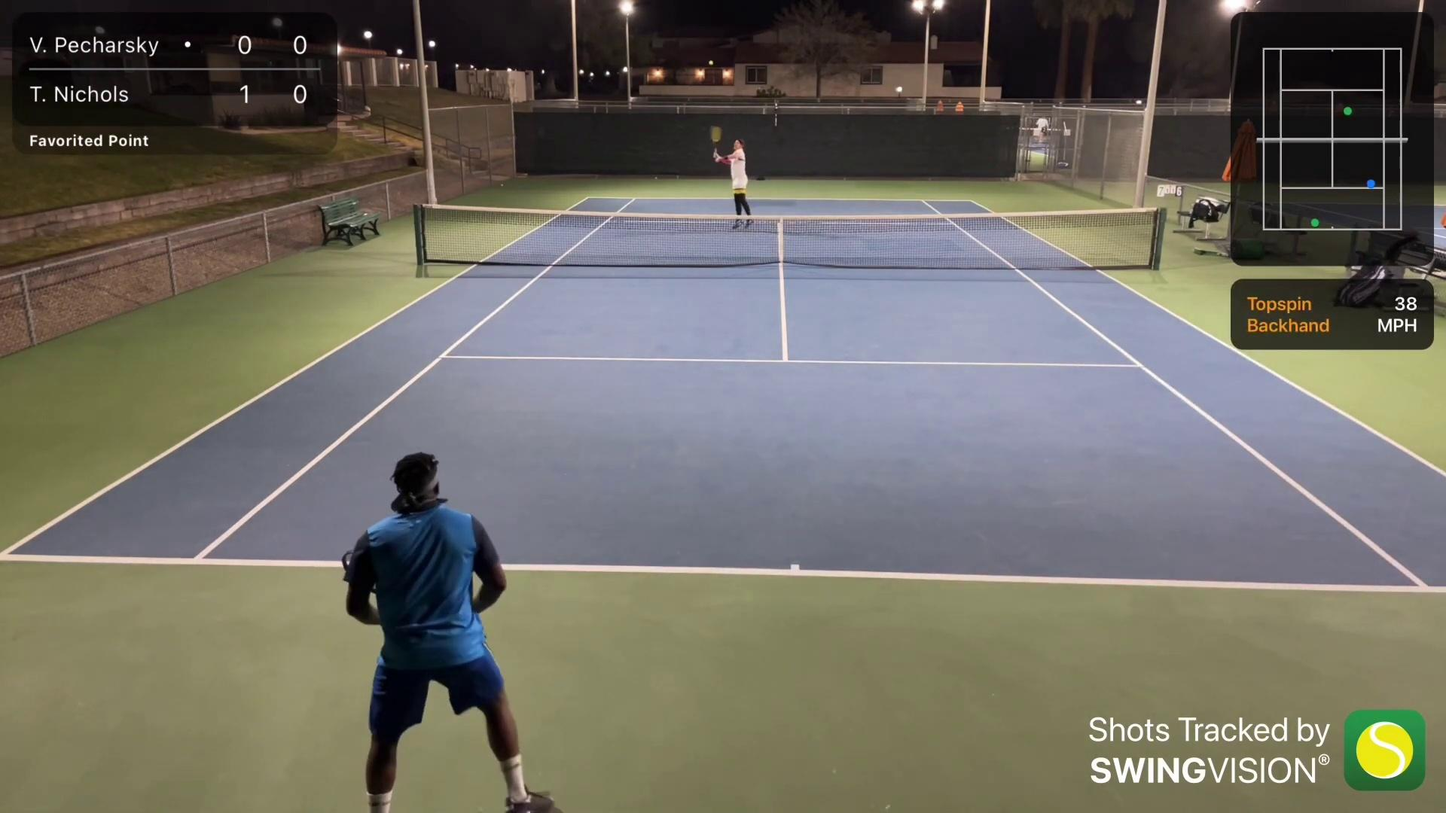ball: (708, 59, 715, 66)
